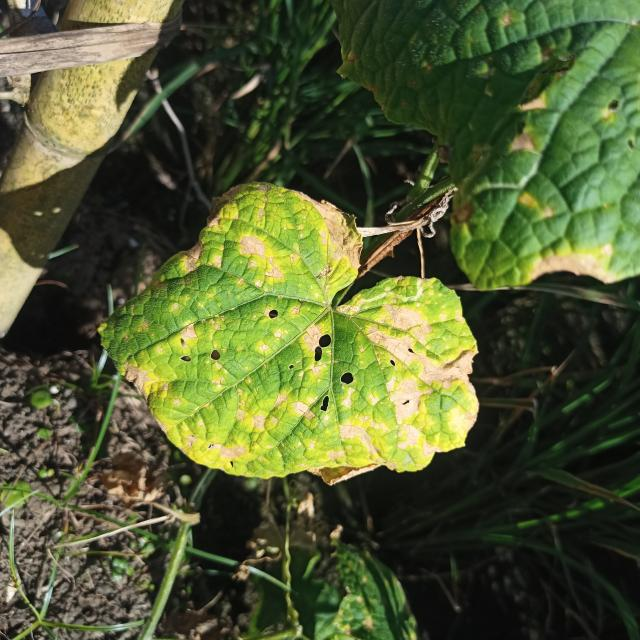disease_cucumber: (102, 182, 481, 477)
